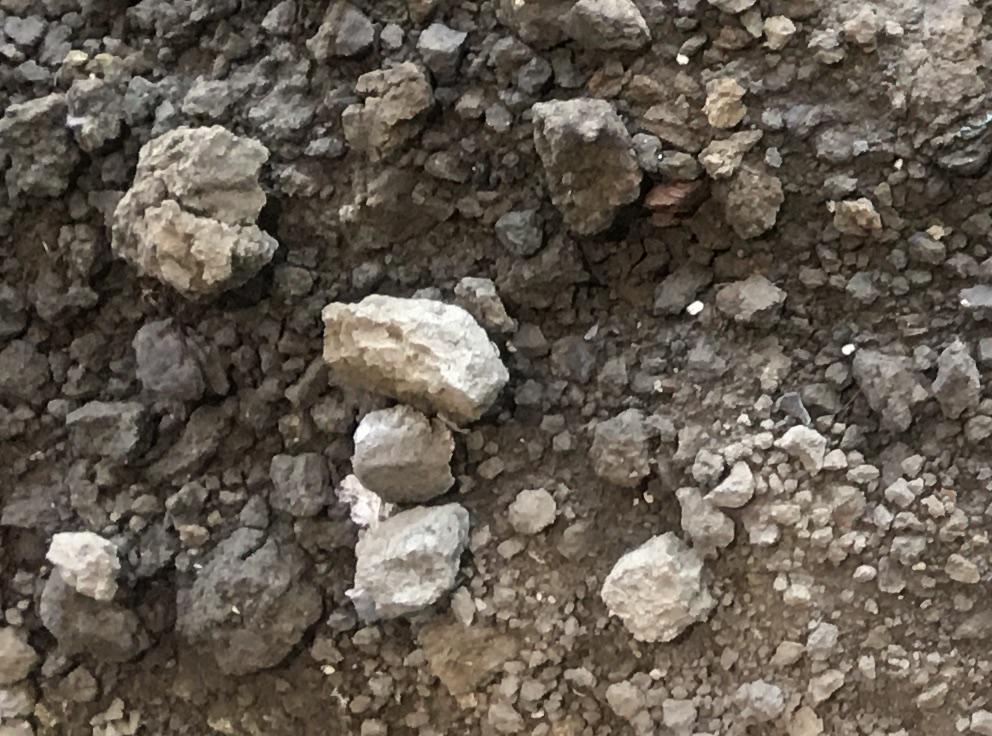block: (117, 130, 283, 302), (313, 293, 511, 420), (529, 94, 634, 242), (350, 509, 463, 627), (601, 530, 711, 647), (342, 406, 461, 498)
